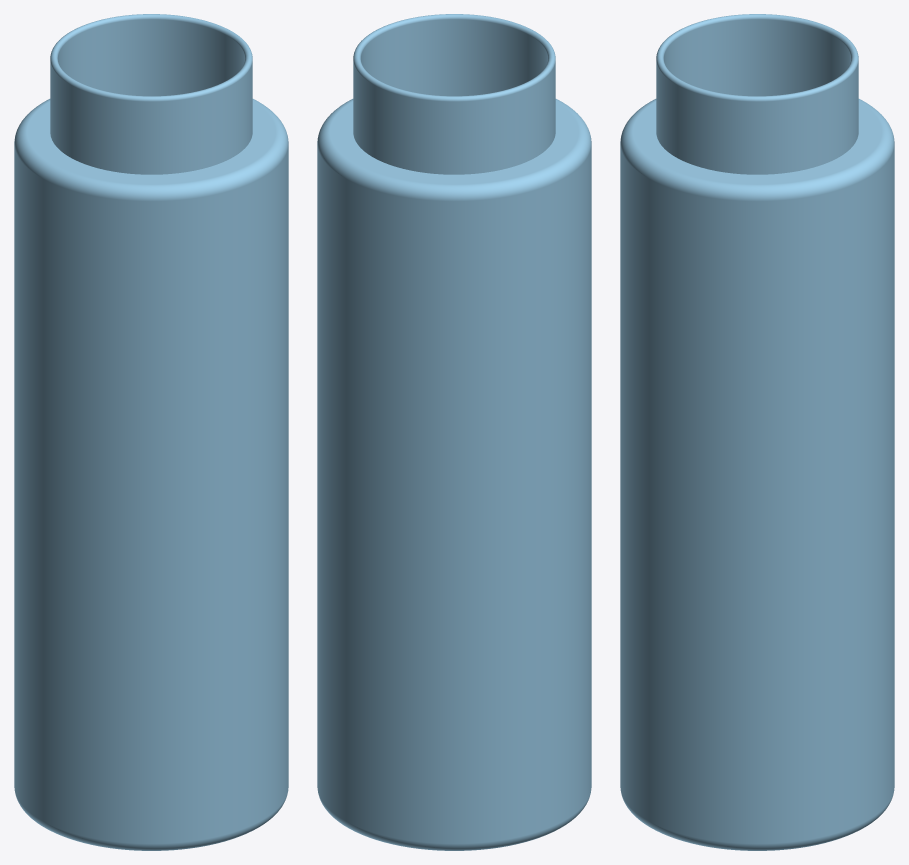
The model's file is bottle.dae.
The picture shows the model from 3 angles, left to right: view 1: azimuth 30°, elevation 25°; view 2: azimuth 150°, elevation 25°; view 3: azimuth 270°, elevation 25°; orthographic projection.
Parts seen in each view (by area): view 1: ID2; view 2: ID2; view 3: ID2.
Part boxes in pixels (x1,y1,x2,y2): ID2: (14,14,288,850); ID2: (317,14,591,850); ID2: (620,14,894,850).
Bounding box in the file's own units: 0.065 × 0.065 × 0.194.
